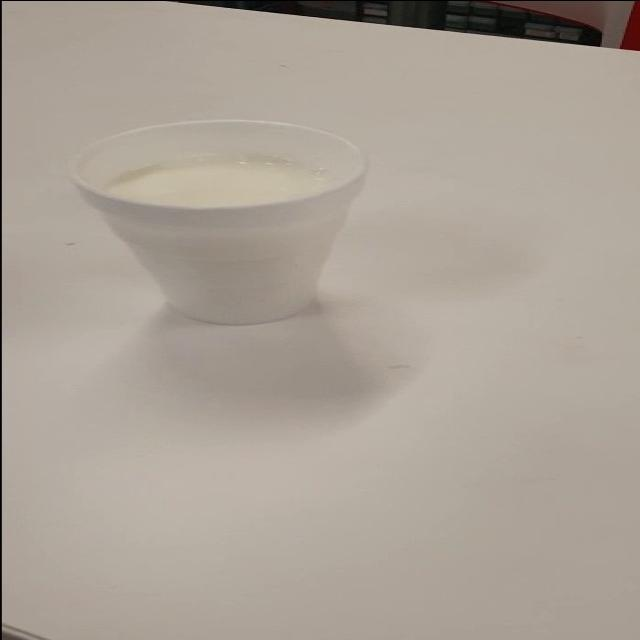Milk: (63, 106, 413, 336)
